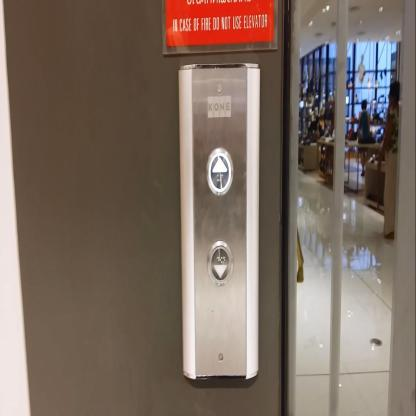down: (206, 240, 233, 286)
up: (206, 146, 233, 196)
